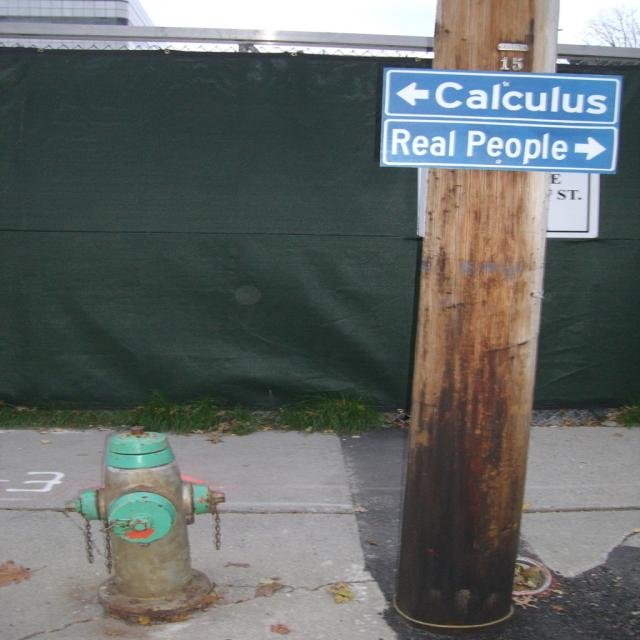fire_hydrant: (70, 426, 227, 620)
